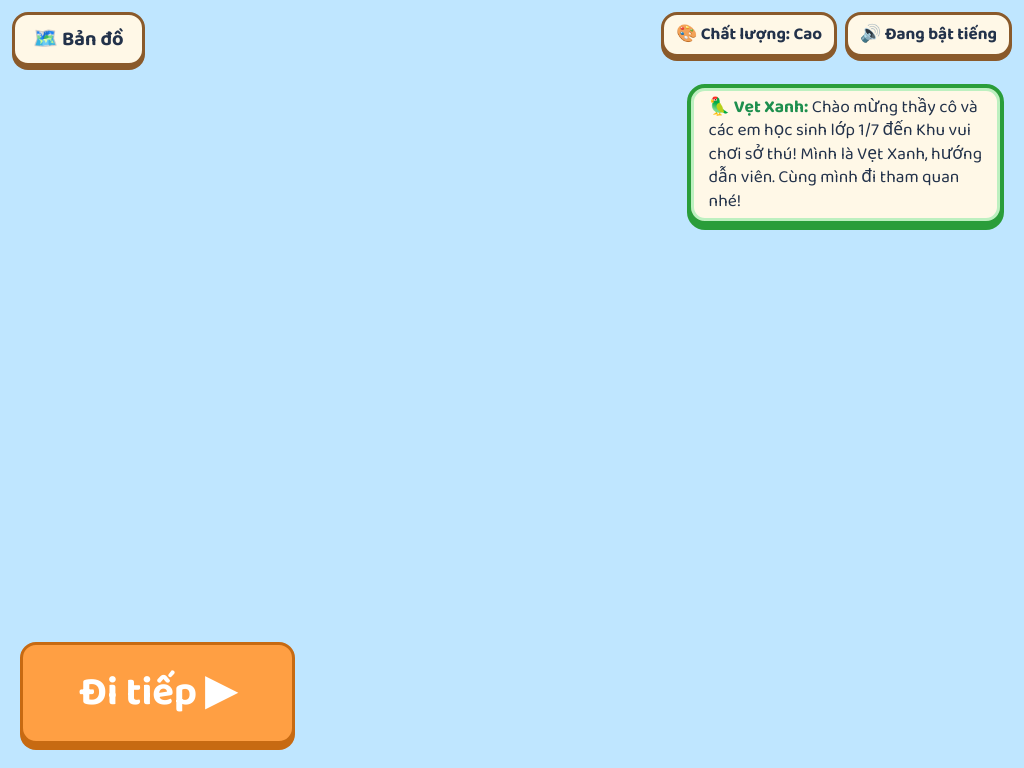
Scenario: bản đồ đánh dấu cổng đã qua
Click the button "🗺️ Bản đồ" at point(78, 39), box [12, 12, 145, 66]
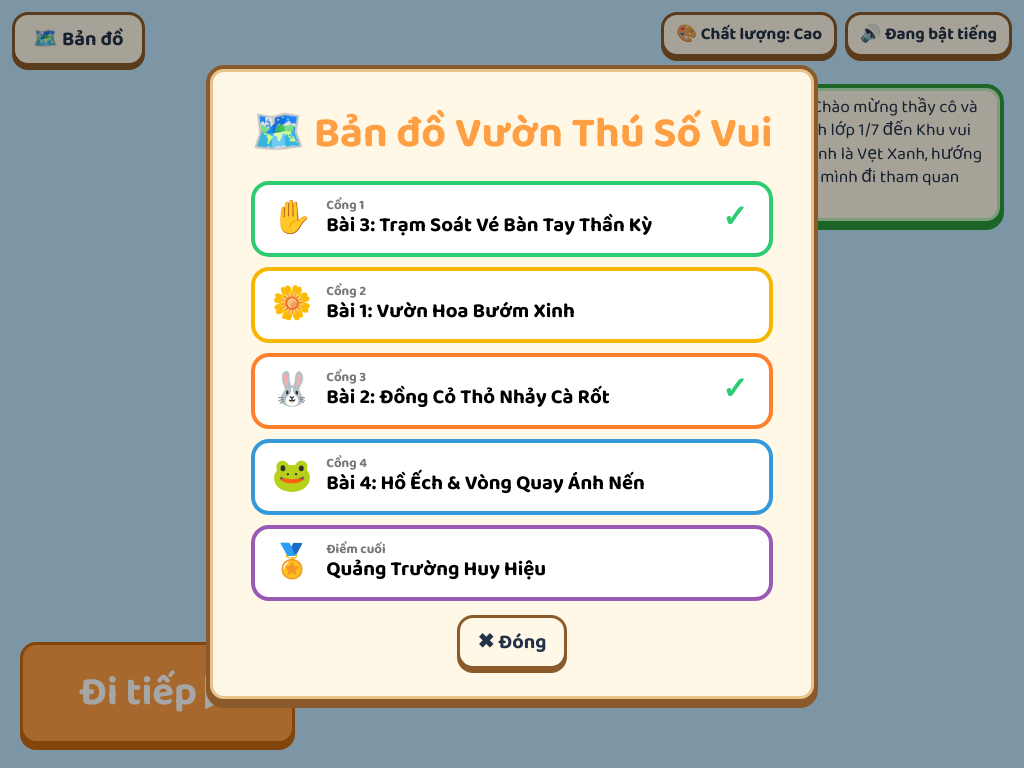
Expected: the button with class "done" shows "Trạm Soát Vé", [251, 180, 773, 256]
Expected: the button with class "done" shows "Đồng Cỏ Thỏ", [251, 352, 773, 428]
